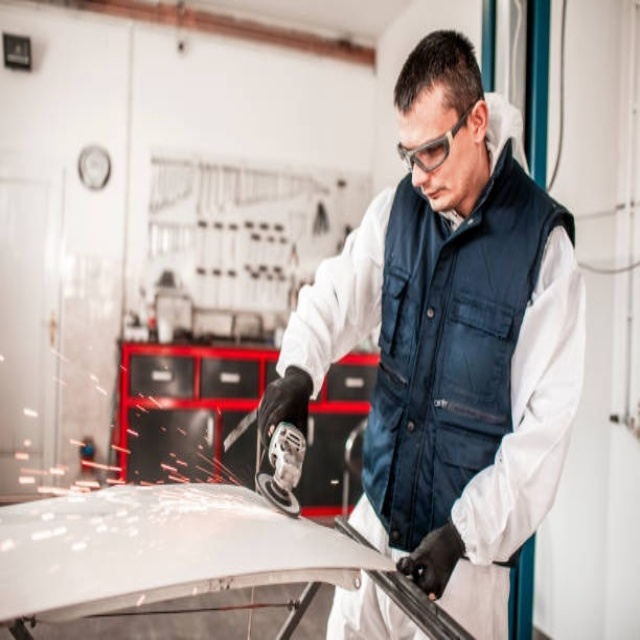Gafas: (398, 103, 475, 175)
Guantes: (255, 366, 311, 497), (395, 519, 466, 602)
Sin_mascara: (418, 182, 453, 210)
